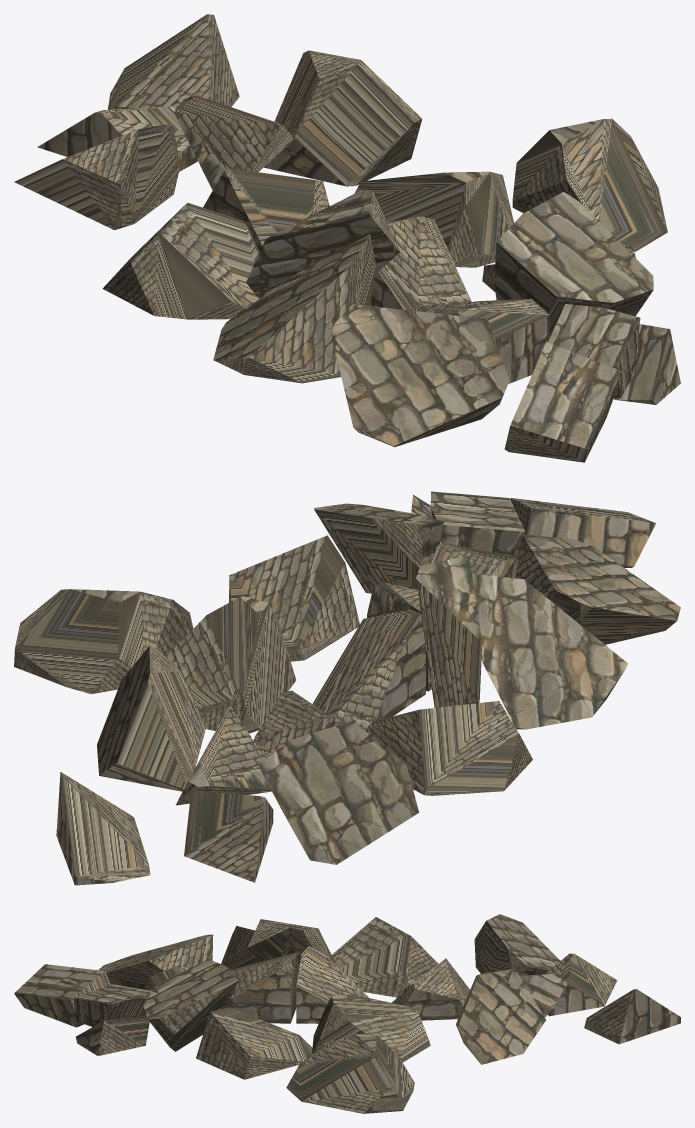
File: BreakWallSmall_000023.obj
3 views of the same model, one above another, from view 1: azimuth 30°, elevation 25°; view 2: azimuth 150°, elevation 25°; view 3: azimuth 270°, elevation 25° (orthographic). The views are drawn at different scales.
Visible parts, largest first — view 1: Cube.002_cell.013_Cube.002_cell.012, Cube.002_cell.014_Cube.002_cell.013, Cube.002_cell.004_Cube.002_cell.003, Cube.002_cell.017_Cube.002_cell.016, Cube.002_cell.012_Cube.002_cell.011, Cube.002_cell.003_Cube.002_cell.002, Cube.002_cell.010_Cube.002_cell.009, Cube.002_cell.002_Cube.002_cell.001, Cube.002_cell.015_Cube.002_cell.014, Cube.002_cell.005_Cube.002_cell.004, Cube.002_cell.009_Cube.002_cell.008, Cube.002_cell.008_Cube.002_cell.007 (+6 smaller); view 2: Cube.002_cell.017_Cube.002_cell.016, Cube.002_cell.010_Cube.002_cell.009, Cube.002_cell.003_Cube.002_cell.002, Cube.002_cell.015_Cube.002_cell.014, Cube.002_cell.012_Cube.002_cell.011, Cube.002_cell.014_Cube.002_cell.013, Cube.002_cell.013_Cube.002_cell.012, Cube.002_cell.016_Cube.002_cell.015, Cube.002_cell.006_Cube.002_cell.005, Cube.002_cell.009_Cube.002_cell.008, Cube.002_cell.004_Cube.002_cell.003, Cube.002_cell.005_Cube.002_cell.004 (+7 smaller); view 3: Cube.002_cell.003_Cube.002_cell.002, Cube.002_cell.014_Cube.002_cell.013, Cube.002_cell.016_Cube.002_cell.015, Cube.002_cell.012_Cube.002_cell.011, Cube.002_cell.004_Cube.002_cell.003, Cube.002_cell.015_Cube.002_cell.014, Cube.002_cell.008_Cube.002_cell.007, Cube.002_cell.010_Cube.002_cell.009, Cube.002_cell.002_Cube.002_cell.001, Cube.002_cell.005_Cube.002_cell.004, Cube.002_cell.013_Cube.002_cell.012, Cube.002_cell.006_Cube.002_cell.005 (+8 smaller).
Part boxes in pixels (x1=…): Cube.002_cell.013_Cube.002_cell.012: x1=331, y1=304, x2=509, y2=447; Cube.002_cell.014_Cube.002_cell.013: x1=264, y1=50, x2=421, y2=186; Cube.002_cell.004_Cube.002_cell.003: x1=494, y1=191, x2=653, y2=338; Cube.002_cell.017_Cube.002_cell.016: x1=213, y1=234, x2=375, y2=383; Cube.002_cell.012_Cube.002_cell.011: x1=102, y1=202, x2=259, y2=319; Cube.002_cell.003_Cube.002_cell.002: x1=512, y1=118, x2=667, y2=251; Cube.002_cell.010_Cube.002_cell.009: x1=14, y1=124, x2=179, y2=229; Cube.002_cell.002_Cube.002_cell.001: x1=504, y1=342, x2=621, y2=462; Cube.002_cell.015_Cube.002_cell.014: x1=354, y1=171, x2=513, y2=267; Cube.002_cell.005_Cube.002_cell.004: x1=108, y1=14, x2=239, y2=109; Cube.002_cell.009_Cube.002_cell.008: x1=246, y1=191, x2=399, y2=299; Cube.002_cell.008_Cube.002_cell.007: x1=370, y1=216, x2=471, y2=312; Cube.002_cell.017_Cube.002_cell.016: x1=472, y1=574, x2=627, y2=729; Cube.002_cell.010_Cube.002_cell.009: x1=258, y1=721, x2=418, y2=864; Cube.002_cell.003_Cube.002_cell.002: x1=14, y1=589, x2=193, y2=694; Cube.002_cell.015_Cube.002_cell.014: x1=166, y1=596, x2=296, y2=733; Cube.002_cell.012_Cube.002_cell.011: x1=365, y1=701, x2=532, y2=795; Cube.002_cell.014_Cube.002_cell.013: x1=97, y1=646, x2=206, y2=791; Cube.002_cell.013_Cube.002_cell.012: x1=515, y1=534, x2=680, y2=644; Cube.002_cell.016_Cube.002_cell.015: x1=229, y1=535, x2=359, y2=661; Cube.002_cell.006_Cube.002_cell.005: x1=312, y1=609, x2=425, y2=730; Cube.002_cell.009_Cube.002_cell.008: x1=416, y1=555, x2=482, y2=707; Cube.002_cell.004_Cube.002_cell.003: x1=314, y1=503, x2=443, y2=593; Cube.002_cell.005_Cube.002_cell.004: x1=56, y1=772, x2=150, y2=885; Cube.002_cell.003_Cube.002_cell.002: x1=286, y1=1034, x2=414, y2=1113; Cube.002_cell.014_Cube.002_cell.013: x1=456, y1=969, x2=545, y2=1064; Cube.002_cell.016_Cube.002_cell.015: x1=196, y1=1007, x2=312, y2=1079; Cube.002_cell.012_Cube.002_cell.011: x1=332, y1=917, x2=438, y2=997; Cube.002_cell.004_Cube.002_cell.003: x1=143, y1=959, x2=238, y2=1051; Cube.002_cell.015_Cube.002_cell.014: x1=312, y1=994, x2=430, y2=1062; Cube.002_cell.008_Cube.002_cell.007: x1=228, y1=952, x2=298, y2=1023; Cube.002_cell.010_Cube.002_cell.009: x1=474, y1=914, x2=560, y2=975; Cube.002_cell.002_Cube.002_cell.001: x1=14, y1=964, x2=110, y2=1027; Cube.002_cell.005_Cube.002_cell.004: x1=584, y1=989, x2=680, y2=1044; Cube.002_cell.013_Cube.002_cell.012: x1=98, y1=934, x2=213, y2=990; Cube.002_cell.006_Cube.002_cell.005: x1=296, y1=946, x2=368, y2=1023.
Bounding box in the file's own units: 29.67 × 6.65 × 51.04.
Materials: 2 (2 with a texture image).
